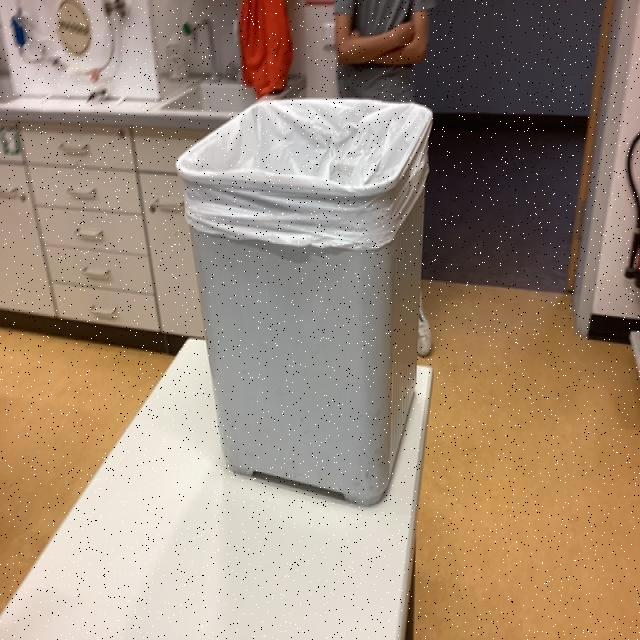garbage container: (167, 84, 450, 516)
